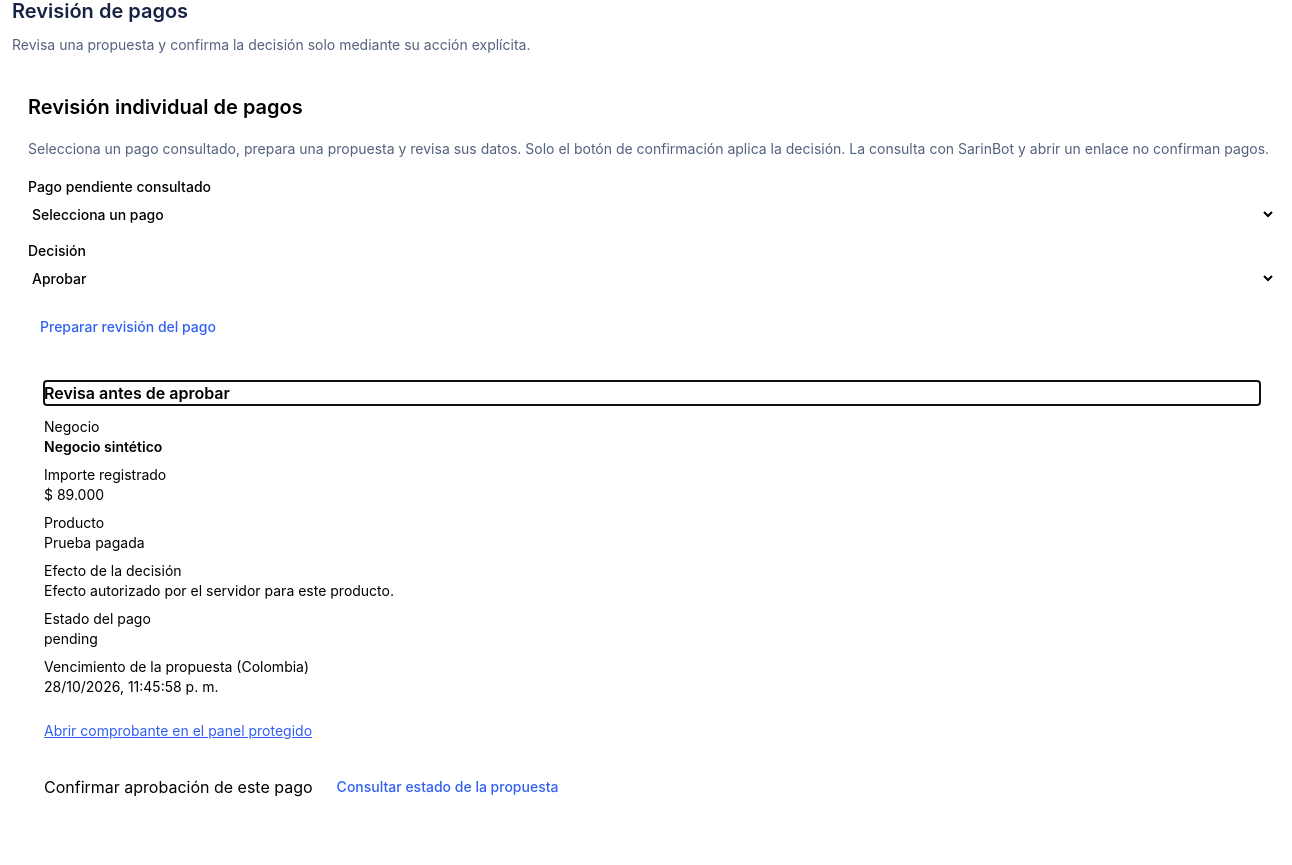
Test: payment product labels › reviews and records paid_trial as its actual product without inventing a subscription plan
The image size is (1292, 865).
(page scrolled)
Click the button "Confirmar aprobación de este pago" at (178, 787), box left=44, top=765, right=313, bottom=809
(page scrolled)
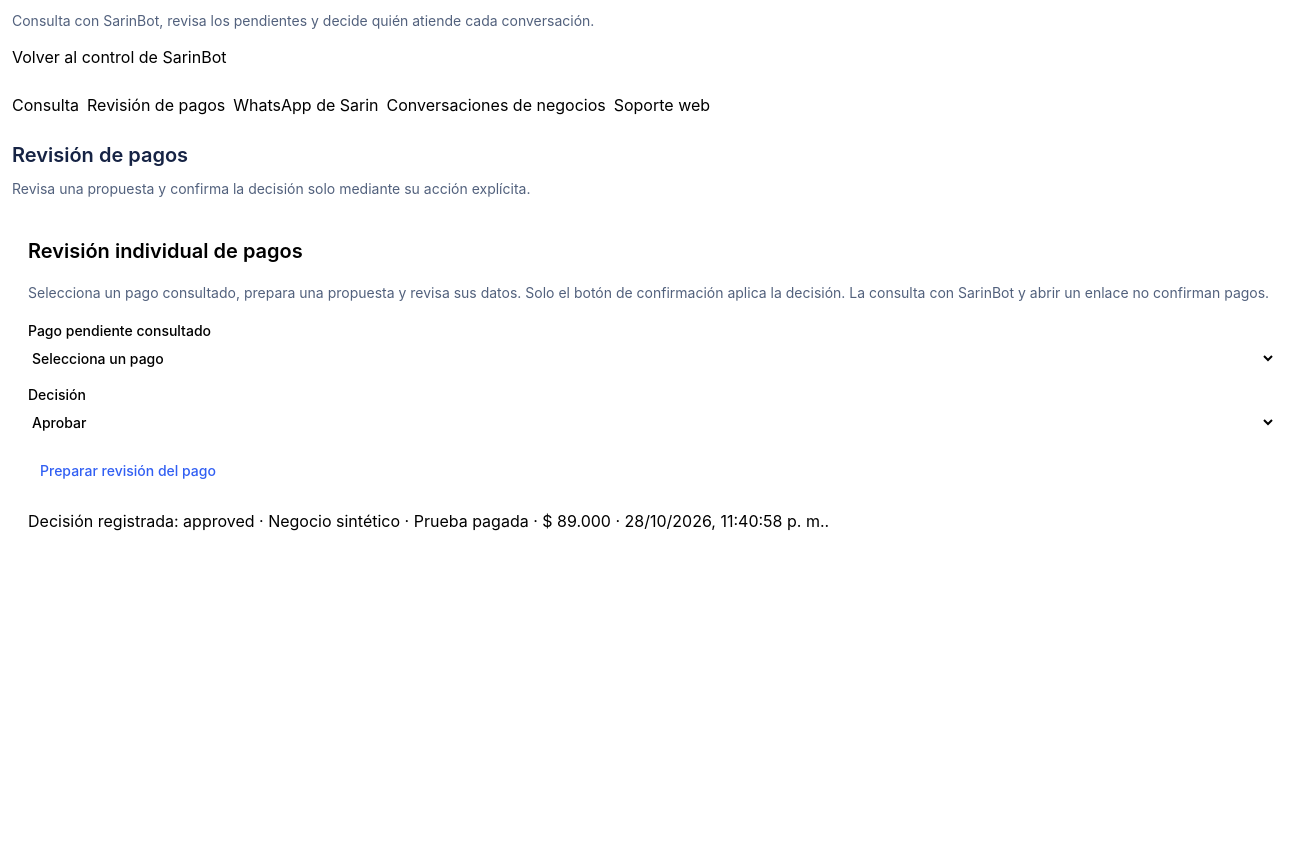
Check: the message shows "Prueba pagada", box left=414, top=511, right=529, bottom=531
